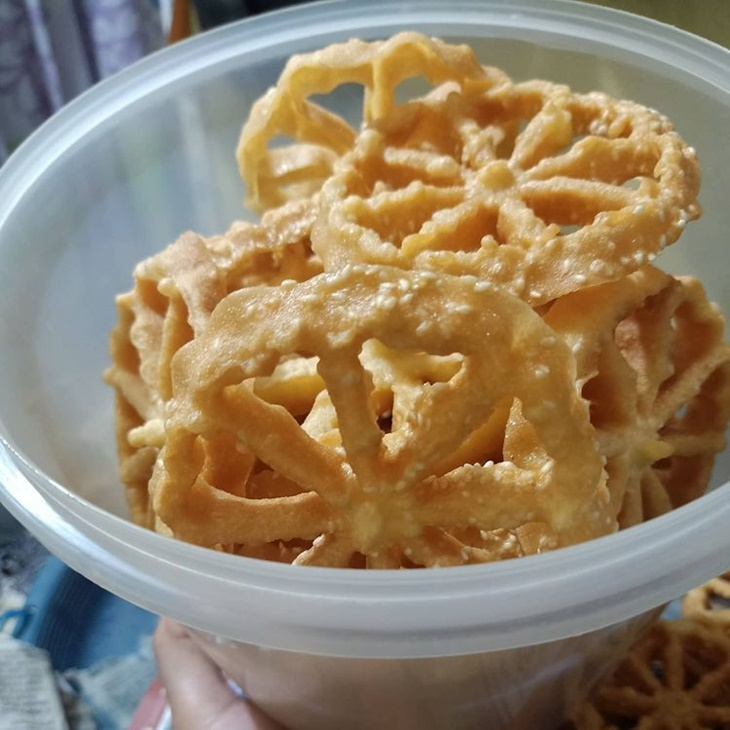kembang_goyang: (349, 59, 709, 307)
